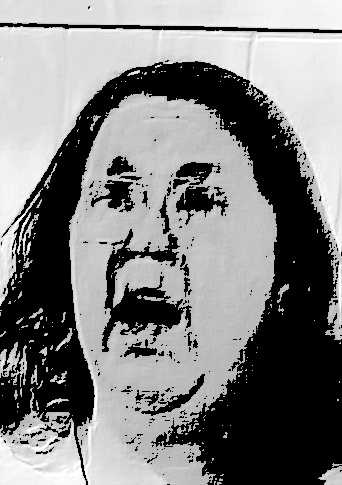nose_M_C: (121, 205, 181, 282)
